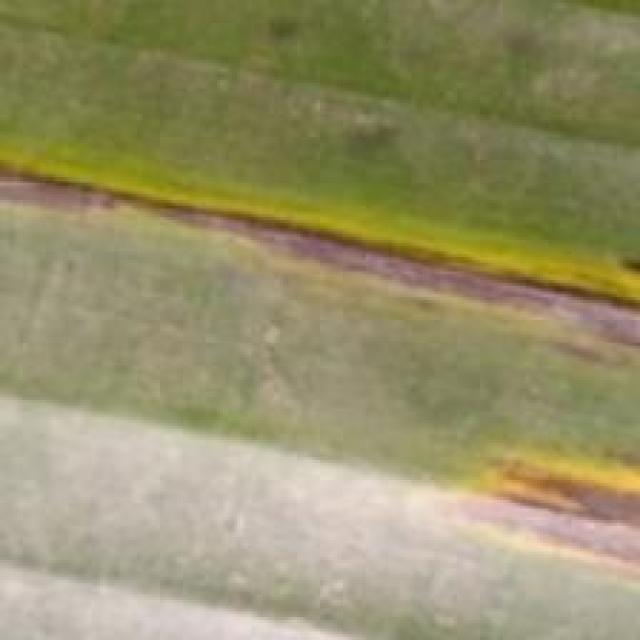Early_leaf_spot: (0, 137, 640, 358), (444, 393, 640, 556)
